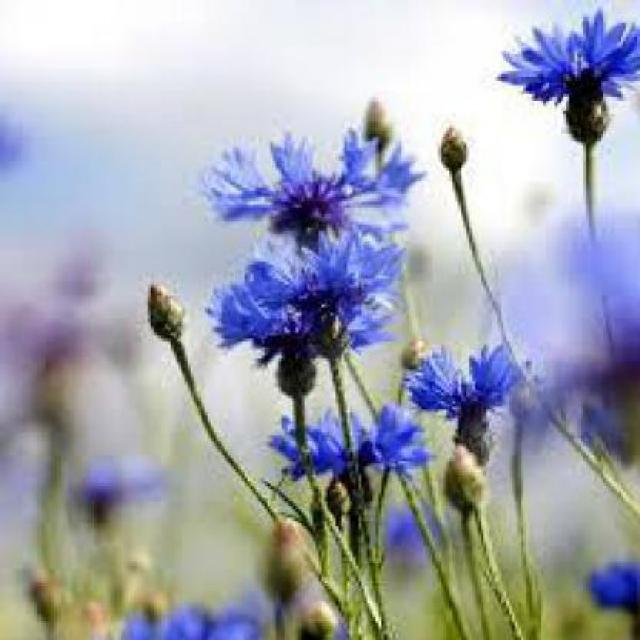flower: (198, 119, 402, 253), (174, 248, 392, 366), (487, 6, 631, 122), (264, 394, 416, 494), (416, 335, 506, 473)
